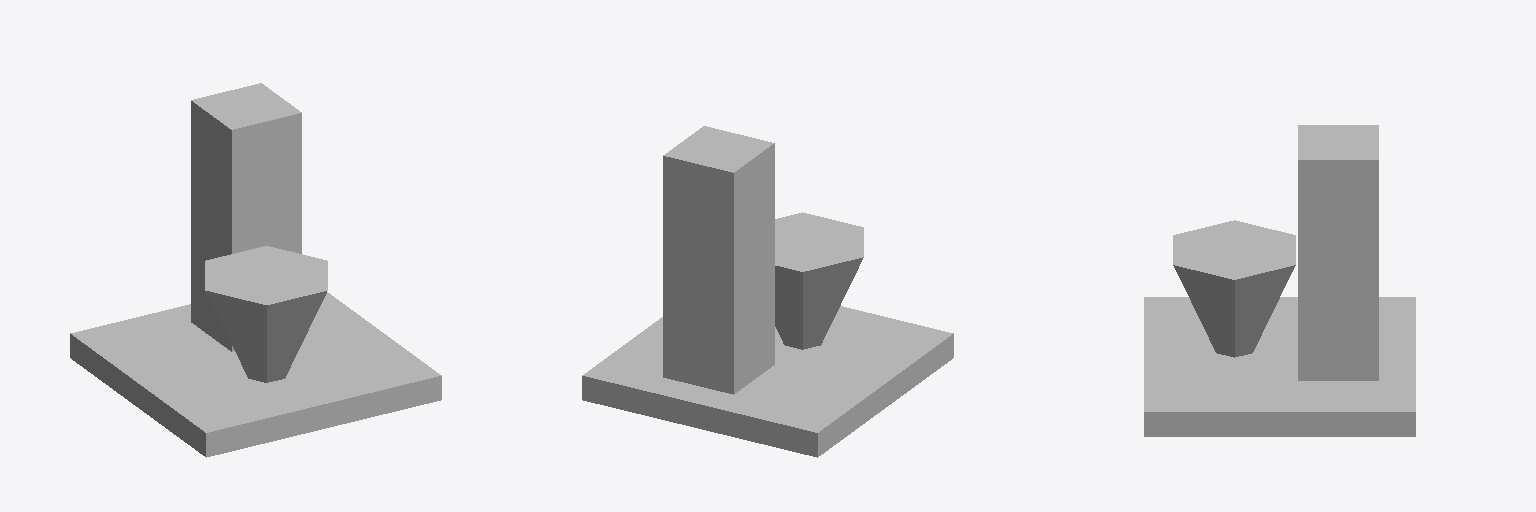
File: demo.obj
The picture shows the model from 3 angles: view 1: azimuth 30°, elevation 25°; view 2: azimuth 150°, elevation 25°; view 3: azimuth 270°, elevation 25°; orthographic projection.
Visible parts, largest first — view 1: Box001; view 2: Box001; view 3: Box001.
Boxes of the visible parts, box(x1,y1,x2,y2) form: Box001: box(70, 83, 441, 457); Box001: box(582, 126, 953, 457); Box001: box(1144, 125, 1415, 436).
Bounding box in the file's own units: 394 × 394 × 394.